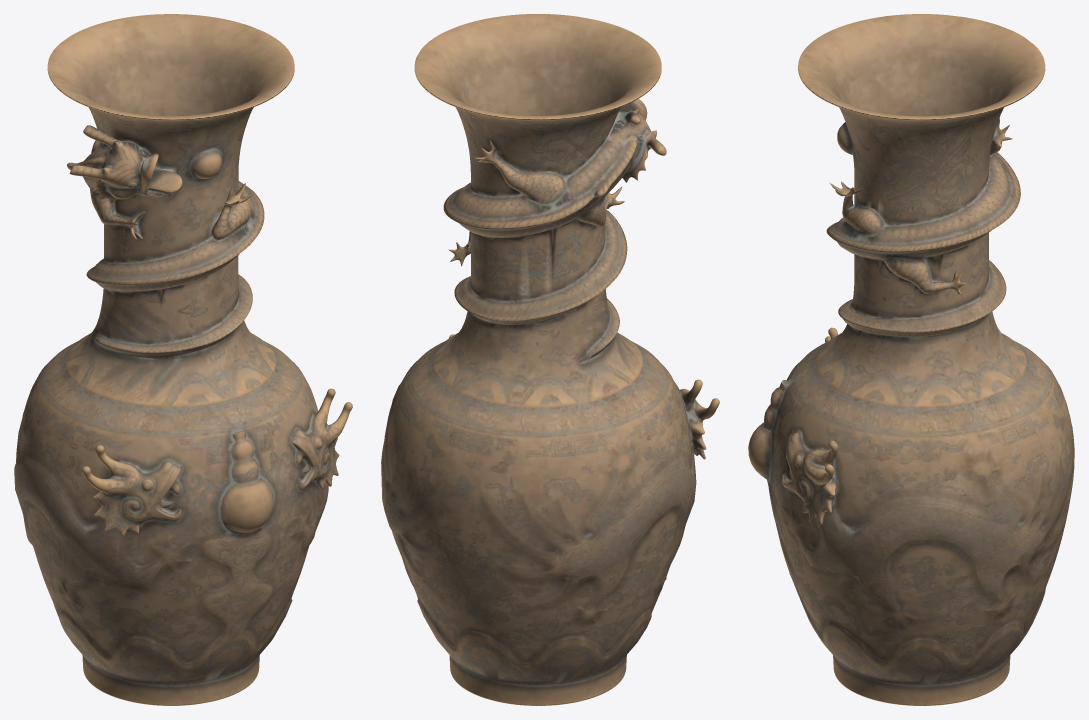
The model's file is vase-dragon.glb.
The picture shows the model from 3 angles, left to right: view 1: azimuth 30°, elevation 25°; view 2: azimuth 150°, elevation 25°; view 3: azimuth 270°, elevation 25°; orthographic projection.
Parts seen in each view (by area): view 1: DragonVase_lambert1_0; view 2: DragonVase_lambert1_0; view 3: DragonVase_lambert1_0.
Boxes of the visible parts, bbox=[...] form: DragonVase_lambert1_0: bbox=[14, 14, 352, 705]; DragonVase_lambert1_0: bbox=[381, 14, 719, 705]; DragonVase_lambert1_0: bbox=[748, 14, 1074, 705].
Bounding box in the file's own units: 0.2524 × 0.5281 × 0.2589.
1 material, 1 textured.
